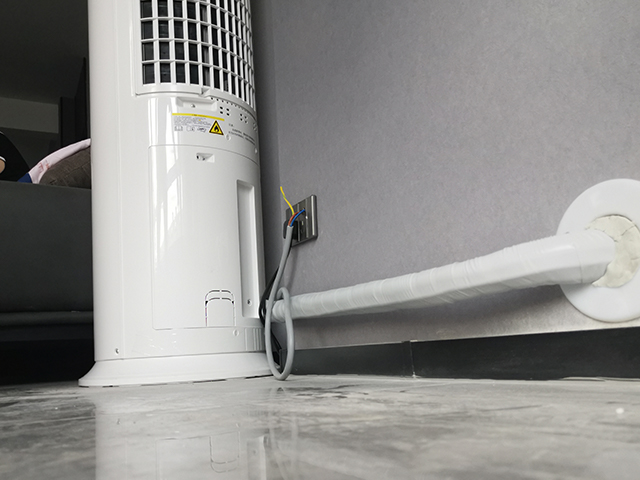sofa: (1, 138, 94, 369)
wire: (255, 184, 307, 382)
